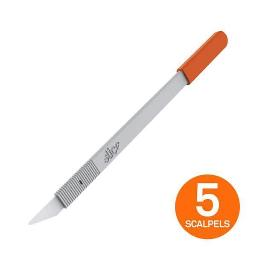scalpel: (28, 30, 228, 226)
